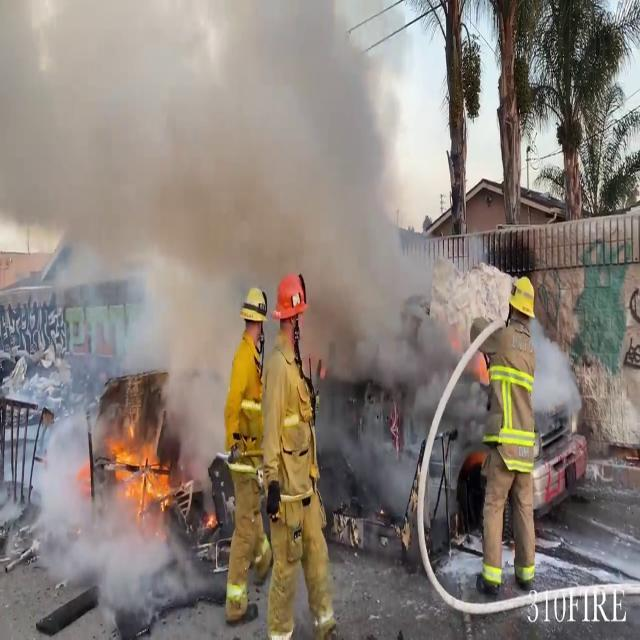Fire: (102, 393, 184, 517)
Smoke: (0, 0, 442, 400)
